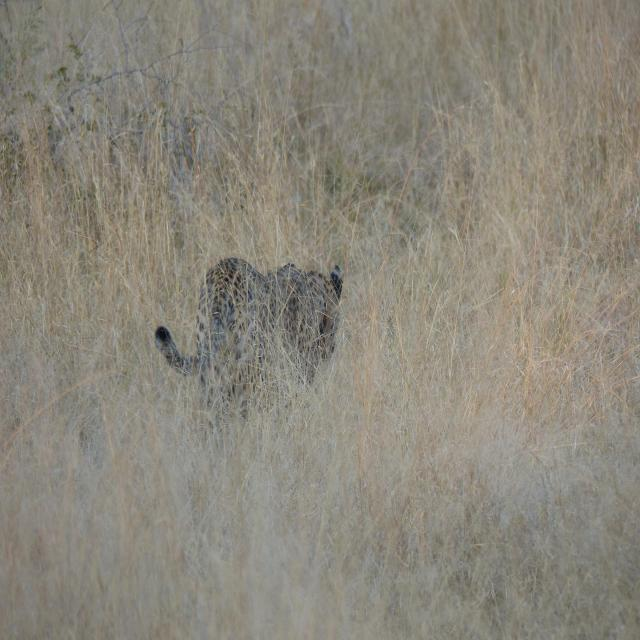Leopard: (156, 255, 353, 428)
